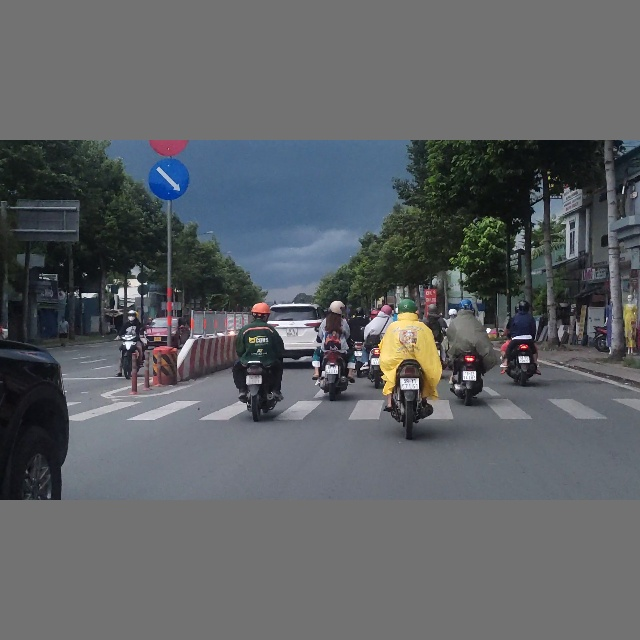R.302a: (148, 157, 189, 200)
